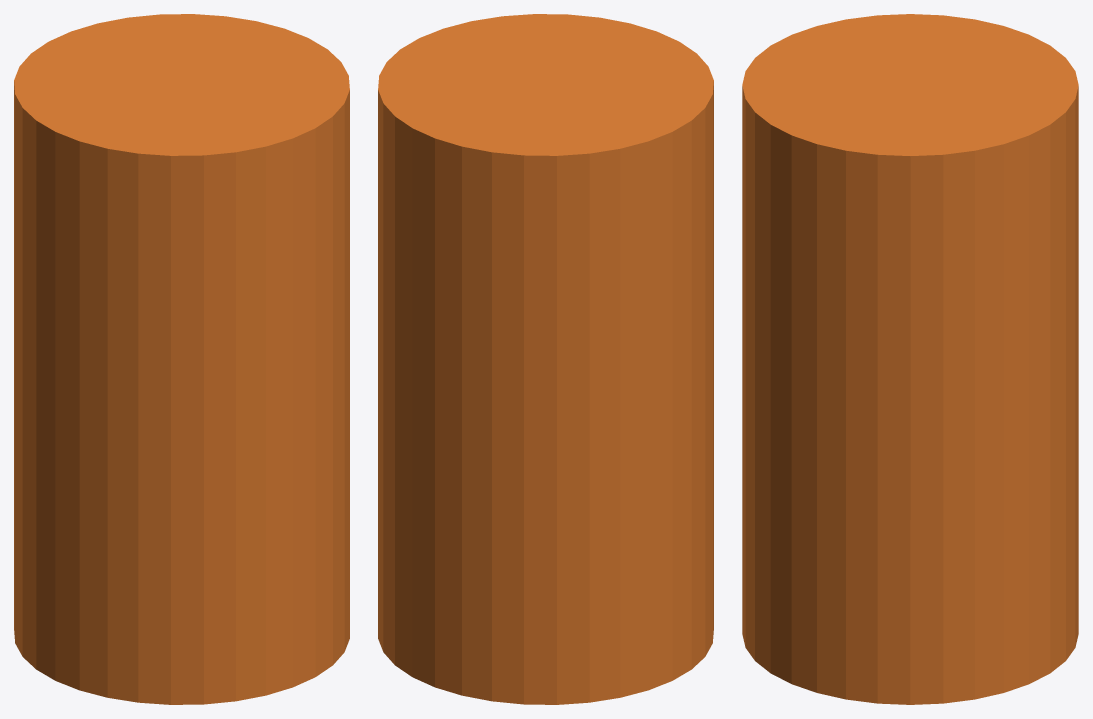
3 views of the same model, side by side, from view 1: azimuth 30°, elevation 25°; view 2: azimuth 150°, elevation 25°; view 3: azimuth 270°, elevation 25° (orthographic).
Parts seen in each view (by area): view 1: Cylinder; view 2: Cylinder; view 3: Cylinder.
Part boxes in pixels (<box>): Cylinder: <box>14,14,349,704</box>; Cylinder: <box>378,14,713,704</box>; Cylinder: <box>742,14,1078,704</box>.
Size of the model in its own units: 100 by 180 by 100.
